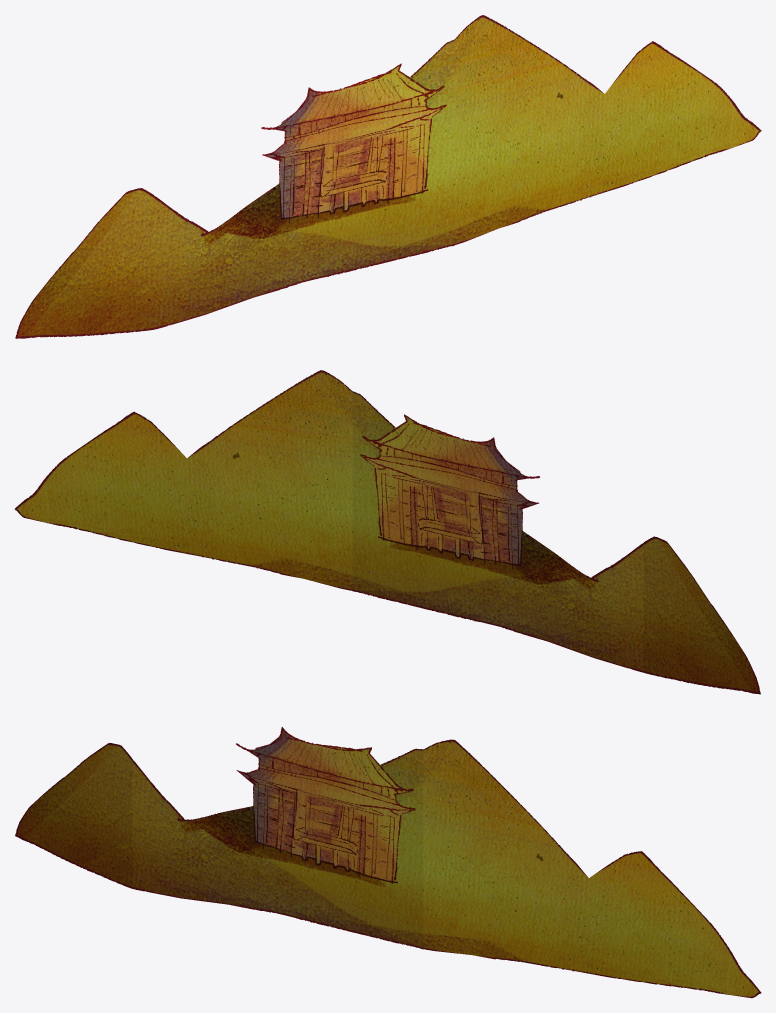
Rendered from grand hotel.fbx.
3 renders of one model, top to bottom at view 1: azimuth 30°, elevation 25°; view 2: azimuth 150°, elevation 25°; view 3: azimuth 330°, elevation 25°, orthographic. The views are drawn at different scales.
Parts seen in each view (by area): view 1: 圓山; view 2: 圓山; view 3: 圓山.
Part boxes in pixels (x1,y1,x2,y2): 圓山: (15,15,761,338); 圓山: (14,370,760,694); 圓山: (15,727,761,998).
Bounding box in the file's own units: 195 × 57.46 × 9.26.
1 material, 1 textured.
